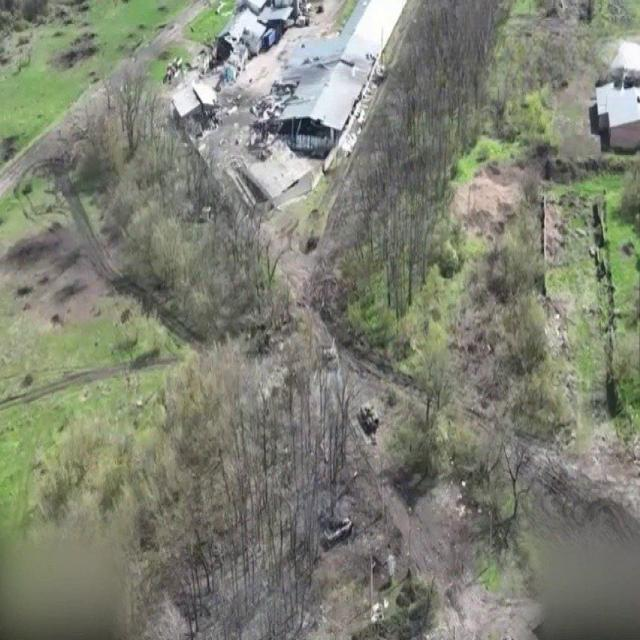AIFV: (360, 398, 381, 435)
Destroyed: (322, 514, 355, 552)
